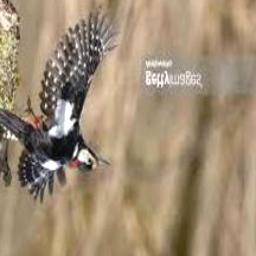Woodpecker: (0, 3, 120, 205)
